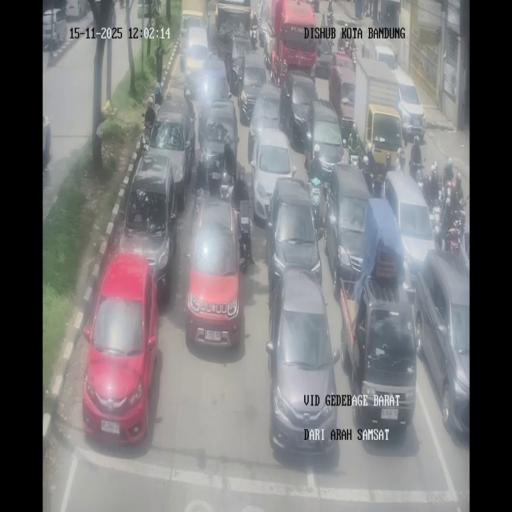car: (82, 252, 160, 445), (266, 271, 338, 458), (341, 268, 418, 437), (413, 250, 469, 441), (184, 196, 245, 352), (119, 154, 179, 298), (384, 168, 438, 293), (326, 163, 373, 293), (250, 124, 296, 227), (196, 99, 240, 193), (152, 98, 194, 181), (304, 95, 344, 181), (394, 68, 426, 142), (236, 52, 267, 123), (182, 28, 210, 97), (42, 8, 66, 50), (257, 0, 273, 58), (374, 44, 396, 70), (64, 0, 89, 19), (42, 115, 51, 167)
motorcycle: (308, 173, 326, 232), (190, 180, 208, 234), (237, 214, 254, 269), (444, 222, 462, 256), (431, 196, 444, 240), (218, 168, 234, 202), (408, 156, 426, 185), (371, 163, 385, 199), (142, 114, 156, 148), (428, 162, 440, 200), (347, 141, 362, 168), (338, 37, 356, 59), (442, 178, 455, 208), (187, 110, 197, 147), (395, 154, 407, 176), (154, 82, 164, 106), (249, 24, 258, 49), (326, 6, 334, 30), (385, 152, 393, 176), (362, 0, 368, 17), (328, 38, 334, 52), (321, 13, 326, 29), (378, 10, 382, 24), (119, 0, 124, 9)
truck: (354, 58, 400, 168), (268, 0, 317, 85), (211, 0, 255, 74)
